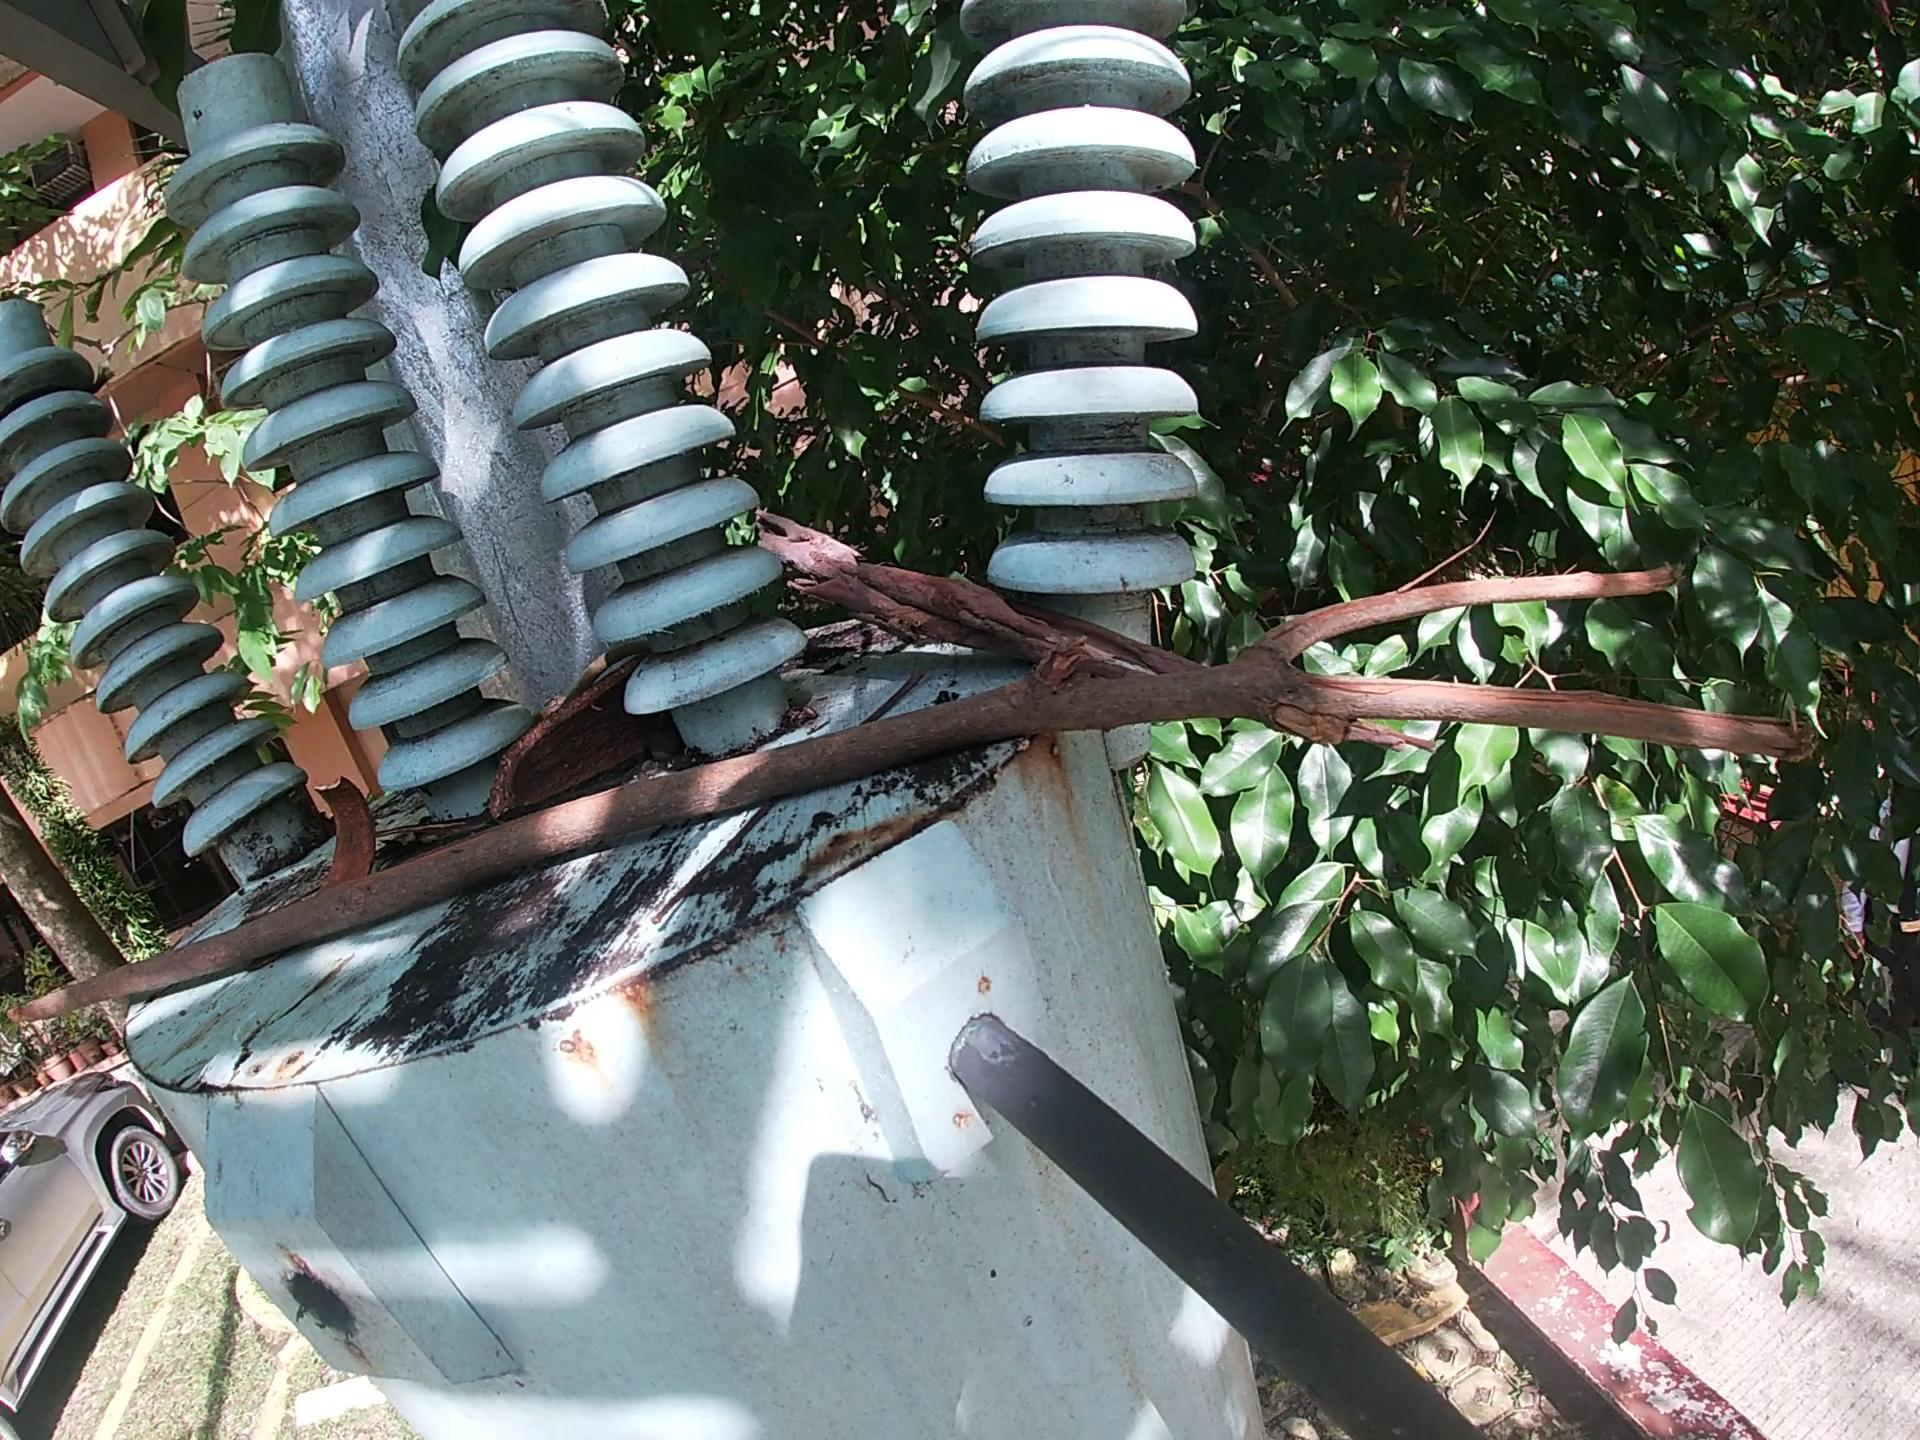mahogany fruit: (475, 650, 671, 830), (299, 773, 379, 889)
tree branch: (2, 552, 1823, 1045), (745, 507, 1435, 773)
